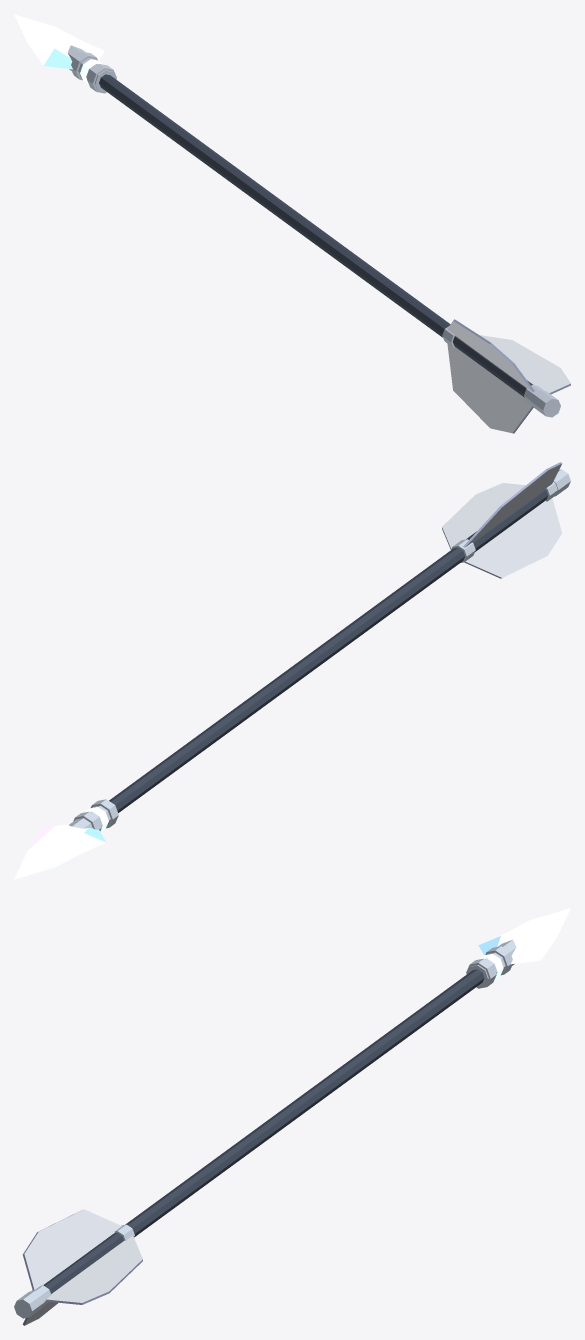
File: Moonstone Arrows-BDTiSx0e.glb
The picture shows the model from 3 angles, top to bottom: view 1: azimuth 30°, elevation 25°; view 2: azimuth 150°, elevation 25°; view 3: azimuth 330°, elevation 25°; orthographic projection.
Parts seen in each view (by area): view 1: Moonstone_Arrow; view 2: Moonstone_Arrow; view 3: Moonstone_Arrow.
Part boxes in pixels (box(x1,y1,x2,y2)): Moonstone_Arrow: box(14, 14, 570, 433); Moonstone_Arrow: box(14, 462, 570, 879); Moonstone_Arrow: box(14, 908, 570, 1325).
Size of the model in its own units: 0.121 by 0.1279 by 1.46.
